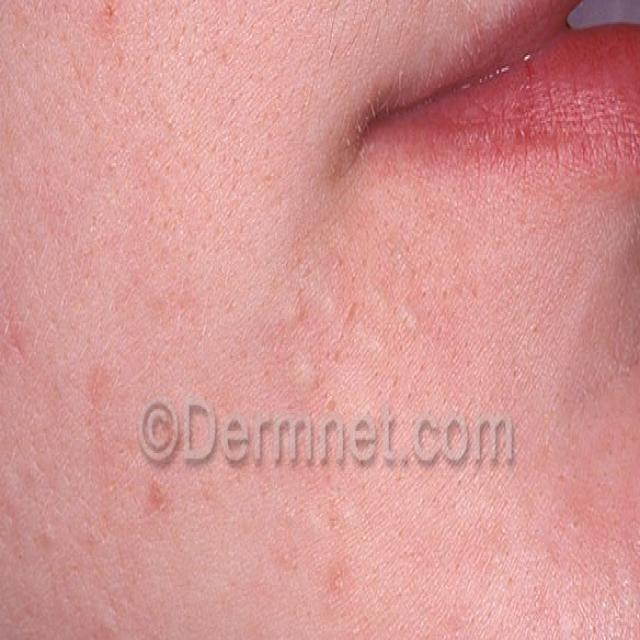Acne: (0, 216, 134, 640), (230, 220, 475, 392), (304, 546, 376, 628)
